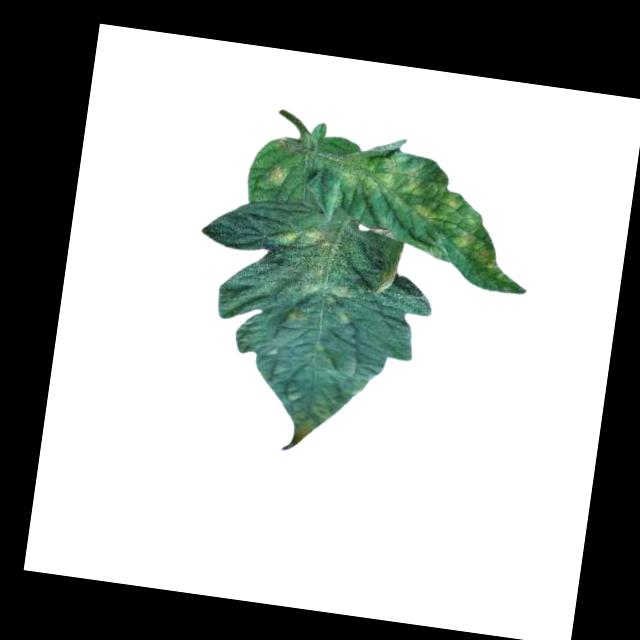Leaf_Mold: (294, 142, 512, 269), (264, 222, 374, 307), (261, 163, 291, 190)
